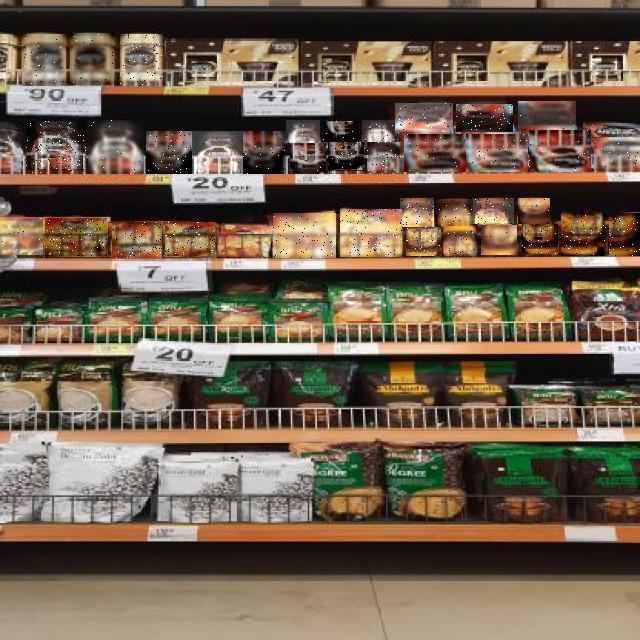Coffee: (26, 122, 86, 174), (88, 120, 144, 174), (341, 209, 403, 257), (273, 213, 336, 258), (529, 130, 591, 172), (405, 134, 467, 172), (466, 134, 528, 172), (45, 218, 107, 256), (22, 34, 66, 86), (71, 33, 115, 85), (120, 34, 163, 86), (192, 131, 243, 174), (562, 212, 608, 256), (146, 131, 192, 174), (242, 131, 288, 174), (112, 222, 162, 258), (395, 104, 453, 134), (165, 222, 215, 256), (0, 217, 43, 255), (518, 102, 576, 130), (456, 105, 513, 133), (594, 138, 640, 171), (609, 213, 640, 256), (328, 142, 364, 174), (368, 142, 404, 173), (291, 143, 327, 174), (472, 198, 514, 224), (522, 224, 558, 254), (481, 225, 517, 255), (406, 227, 442, 256), (400, 198, 434, 227), (444, 226, 476, 256), (438, 200, 473, 226), (518, 198, 550, 224), (286, 120, 320, 143), (323, 121, 359, 142), (362, 120, 395, 142)
